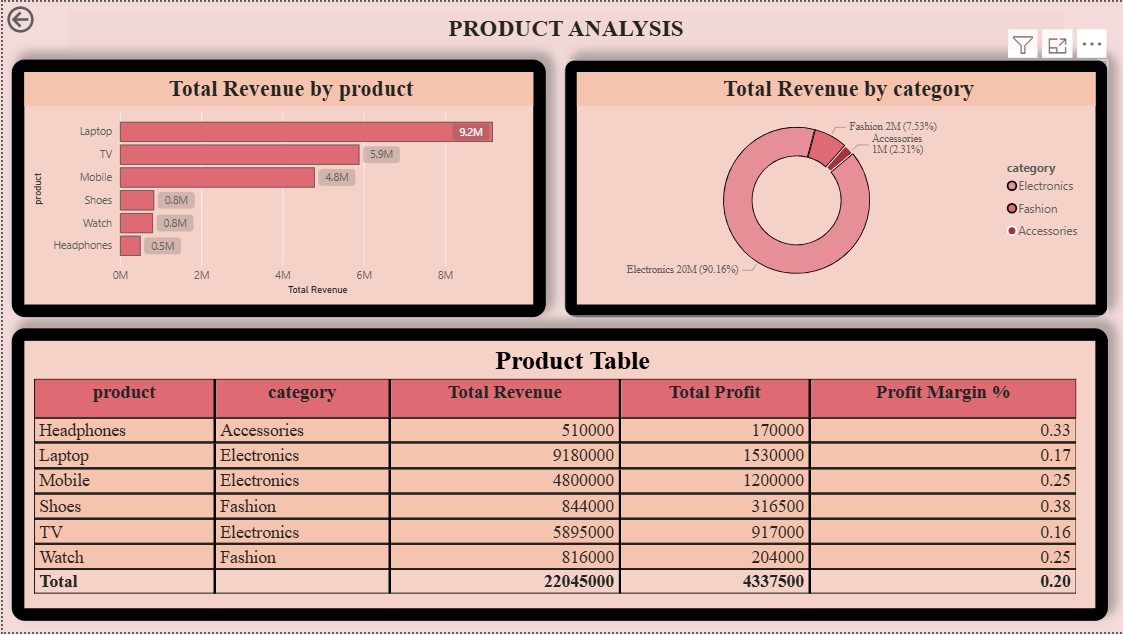

The dashboard page shown, as its layout file describes it:
{"tool":"powerbi","page":{"name":"PRODUCTS ANALYSIS ","canvas":[1280,720],"ordinal":1},"visuals":[{"type":"clusteredBarChart","fields":{"Category":["Sales_Data_FIXED.product"],"Y":["Sales_Data_FIXED.Total Revenue"]},"box":[10,65.7,610,294.3],"z":0},{"type":"donutChart","fields":{"Category":["Sales_Data_FIXED.category"],"Y":["Sales_Data_FIXED.Total Revenue"]},"box":[641.4,65.7,621.4,294.3],"z":1000},{"type":"tableEx","title":"Product Table","fields":{"Values":["Sales_Data_FIXED.product","Sales_Data_FIXED.category","Sales_Data_FIXED.Total Revenue","Sales_Data_FIXED.Total Profit","Sales_Data_FIXED.Profit Margin %"]},"box":[10,372.9,1252.9,334.3],"z":2000},{"type":"actionButton","box":[0,0,100,40],"z":3000},{"type":"textbox","box":[74.3,10,1138.6,44.3],"z":4000}]}

Visuals, with their boxes in screenshot pixels (x1, y1, x2, y2), scaled from the page's 1280x720 canvas onto the 1123x634 screenshot:
clusteredBarChart - Sales_Data_FIXED.product x Sales_Data_FIXED.Total Revenue: detection(9, 58, 544, 317)
donutChart - Sales_Data_FIXED.category x Sales_Data_FIXED.Total Revenue: detection(563, 58, 1108, 317)
"Product Table" tableEx: detection(9, 328, 1108, 623)
actionButton: detection(0, 0, 88, 35)
textbox: detection(65, 9, 1064, 48)
